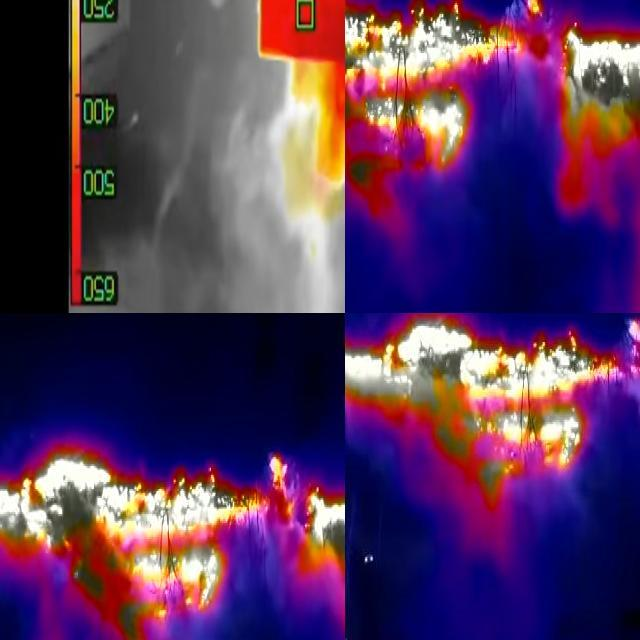fire: (1, 449, 295, 640), (346, 314, 640, 491), (346, 1, 492, 195), (561, 26, 640, 168), (289, 55, 346, 191), (492, 1, 544, 86), (299, 481, 347, 570)
